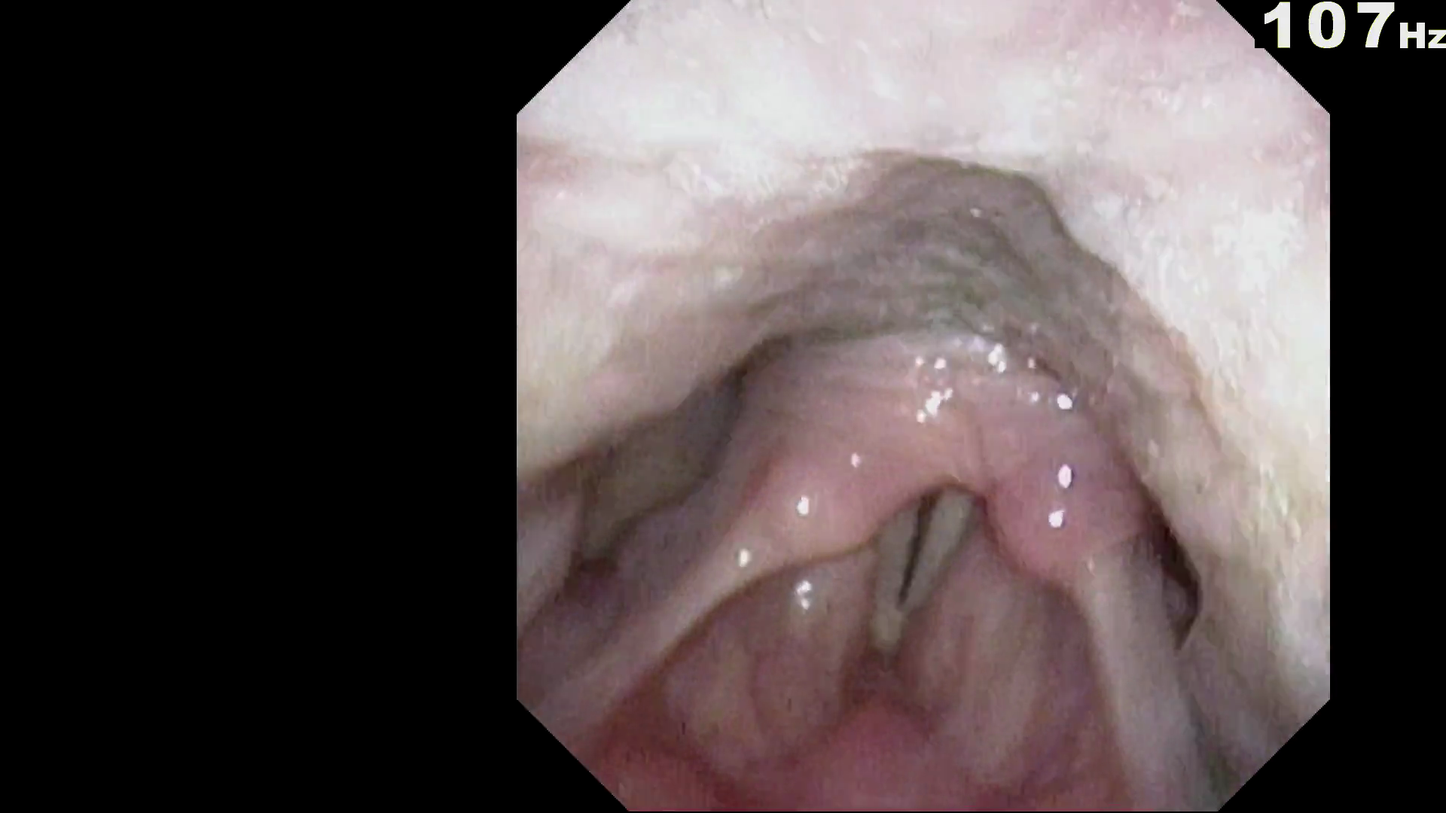trachea: (856, 457, 974, 648)
